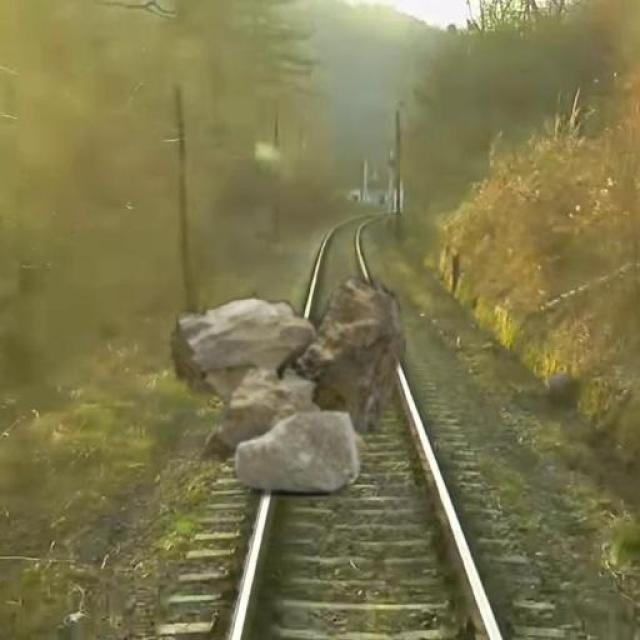Stone: (163, 276, 416, 499)
